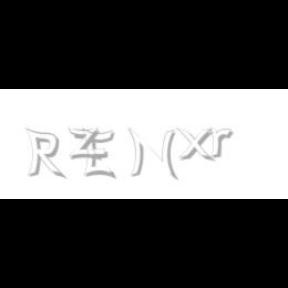E: (82, 128, 116, 180)
N: (128, 128, 176, 180)
R: (25, 128, 63, 180)
r: (210, 128, 236, 158)
x: (176, 128, 218, 162)
z: (67, 128, 103, 160)
